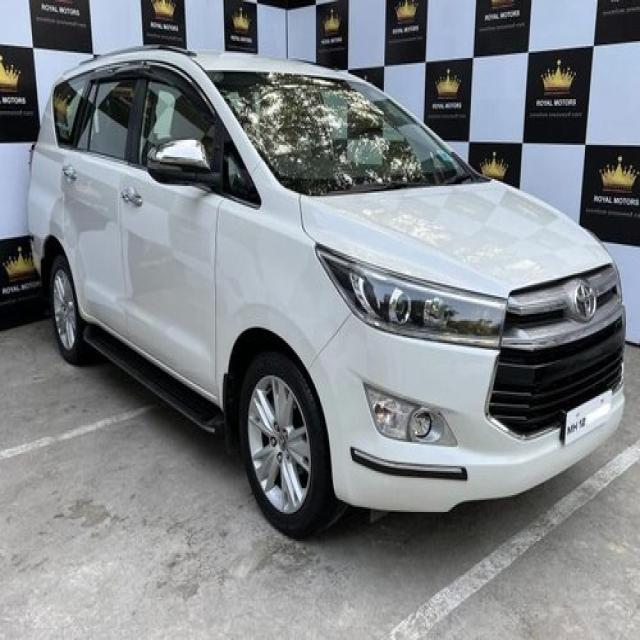light_vehicle: (25, 49, 628, 540)
